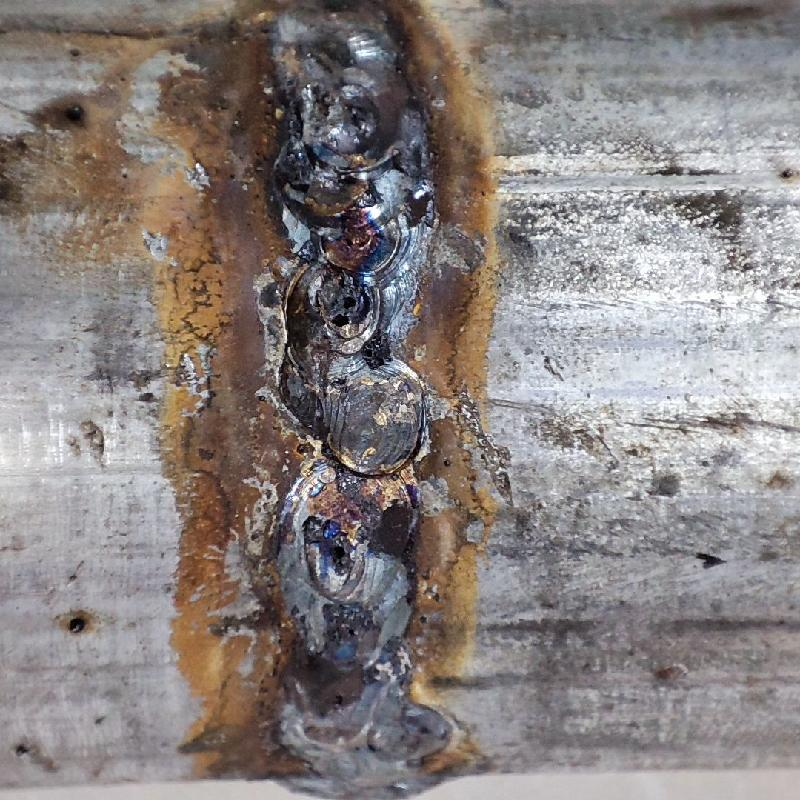Surface_pores: (313, 520, 369, 589), (317, 287, 376, 335)
crater: (271, 50, 430, 774)
